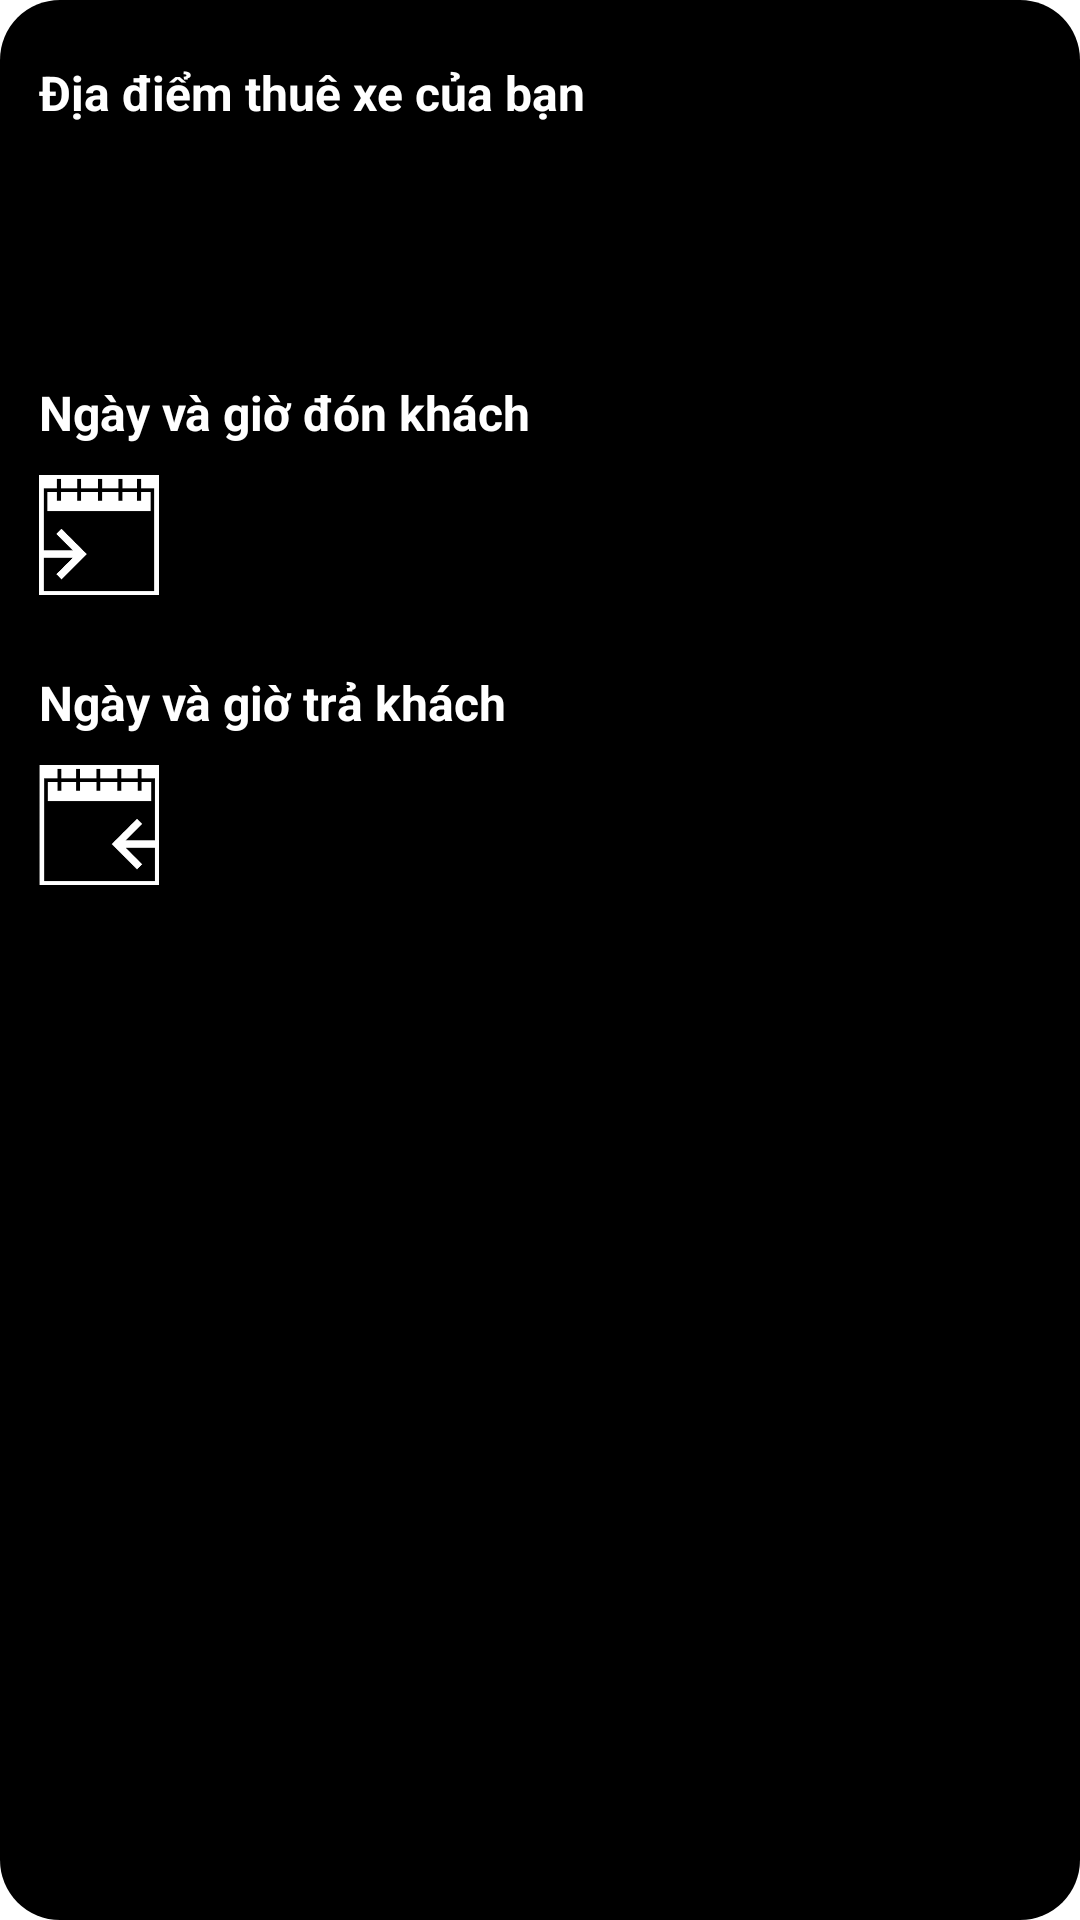

Icons on this 1080px×1920px Android screen, each with its box as (x1, y1, x2, y2):
cal in: (39, 475, 159, 595)
cal out: (39, 765, 159, 885)
